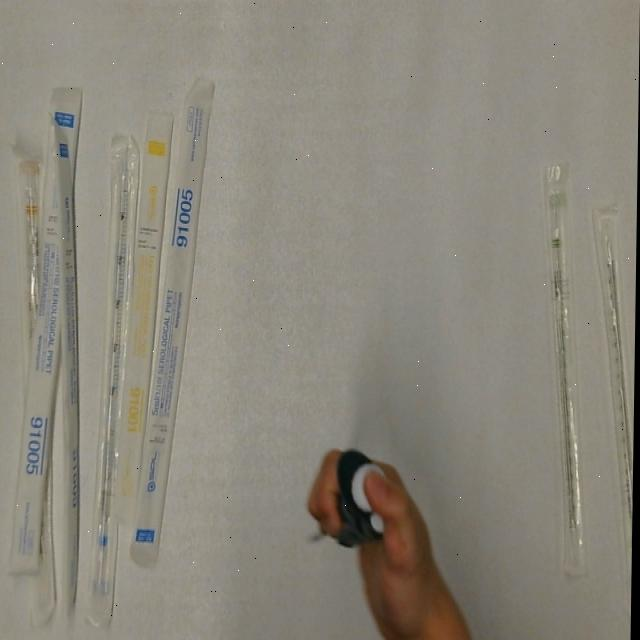Serelogical Pipet 1 mL: (112, 105, 177, 528)
Serelogical Pipet 10 mL: (10, 138, 50, 381)
Serelogical Pipet 2 mL: (532, 152, 600, 589)
Serelogical Pipet 5 mL: (127, 73, 218, 569), (7, 71, 91, 584), (85, 128, 143, 628), (42, 106, 90, 621)
Single Channel Pipettor: (306, 447, 391, 549)
